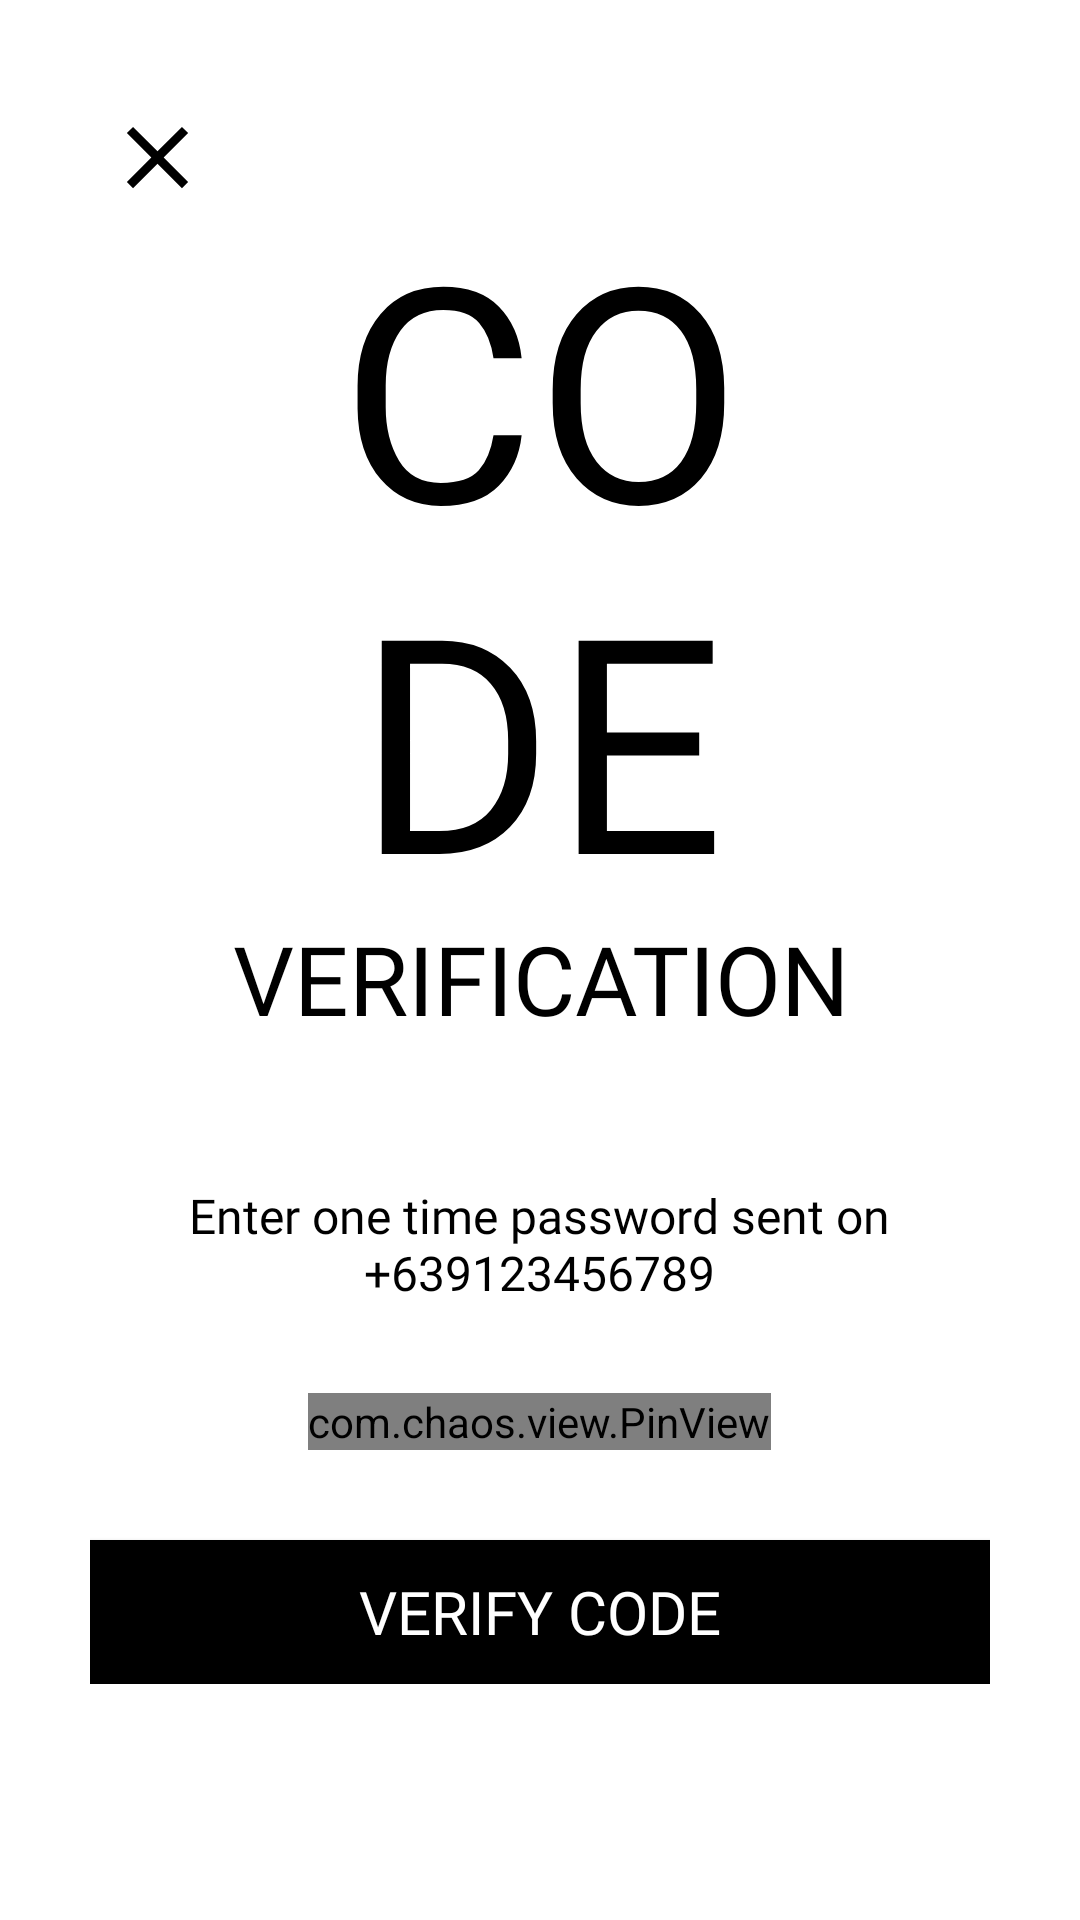

Where to tap for icons on this 1080 x 1920 app screen, as (x=x, y=y):
close: (x=157, y=157)
